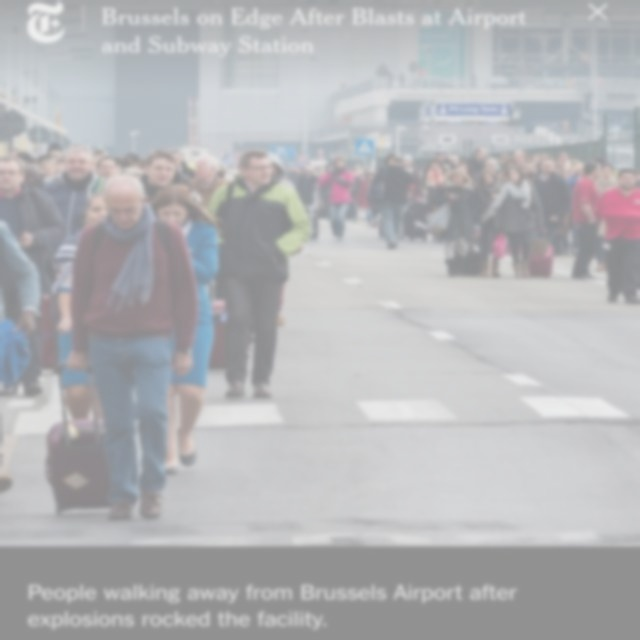pessoa: (64, 172, 202, 524), (206, 146, 314, 403), (398, 146, 612, 257), (146, 185, 226, 474), (0, 154, 68, 400), (50, 190, 115, 436), (11, 139, 228, 206), (0, 211, 43, 494), (489, 165, 547, 280), (592, 167, 639, 306), (266, 149, 332, 243), (42, 145, 110, 236), (427, 167, 477, 279), (364, 153, 416, 251), (566, 158, 606, 282), (470, 165, 510, 278), (312, 153, 357, 243), (532, 153, 572, 244), (342, 160, 384, 230), (594, 162, 621, 270), (275, 281, 287, 324), (628, 166, 639, 190)
